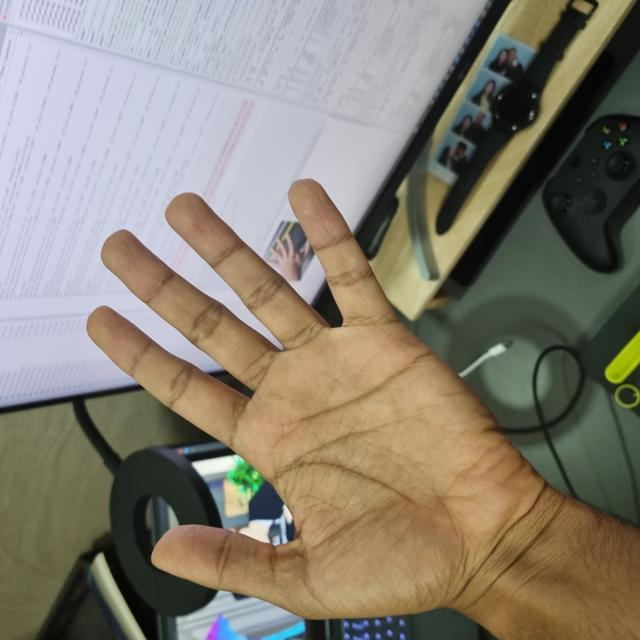Paper: (13, 86, 469, 538)
